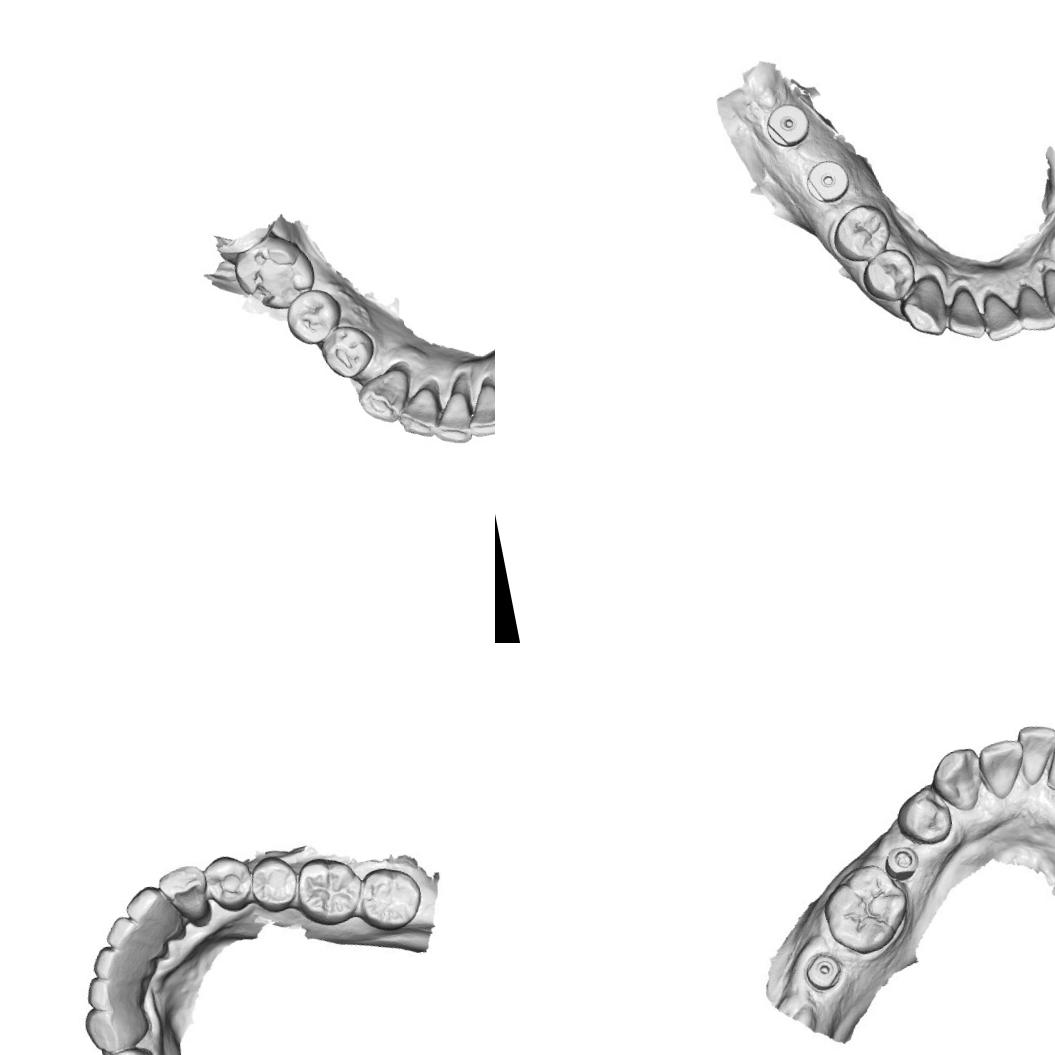canine: (80, 996, 157, 1055), (155, 858, 213, 934), (350, 362, 416, 428), (926, 744, 986, 816), (897, 278, 951, 341)
implant: (799, 152, 857, 210), (759, 97, 814, 151), (798, 946, 845, 993), (884, 841, 924, 882)
incisor: (126, 883, 192, 949), (92, 939, 163, 996), (105, 910, 170, 972), (388, 380, 448, 444), (974, 735, 1029, 803), (427, 386, 478, 449), (84, 970, 152, 1017), (1008, 720, 1055, 788), (1009, 275, 1055, 336), (940, 280, 986, 338), (458, 379, 495, 441), (978, 288, 1019, 341), (1038, 720, 1055, 790), (1040, 261, 1055, 315)
molar: (815, 856, 916, 960), (224, 226, 322, 321), (350, 859, 430, 936), (293, 849, 365, 927)
premolar: (890, 780, 956, 854), (827, 196, 893, 266), (280, 284, 348, 350), (314, 318, 381, 384), (200, 844, 260, 914), (858, 247, 921, 303), (248, 852, 302, 916), (98, 1042, 160, 1055)
